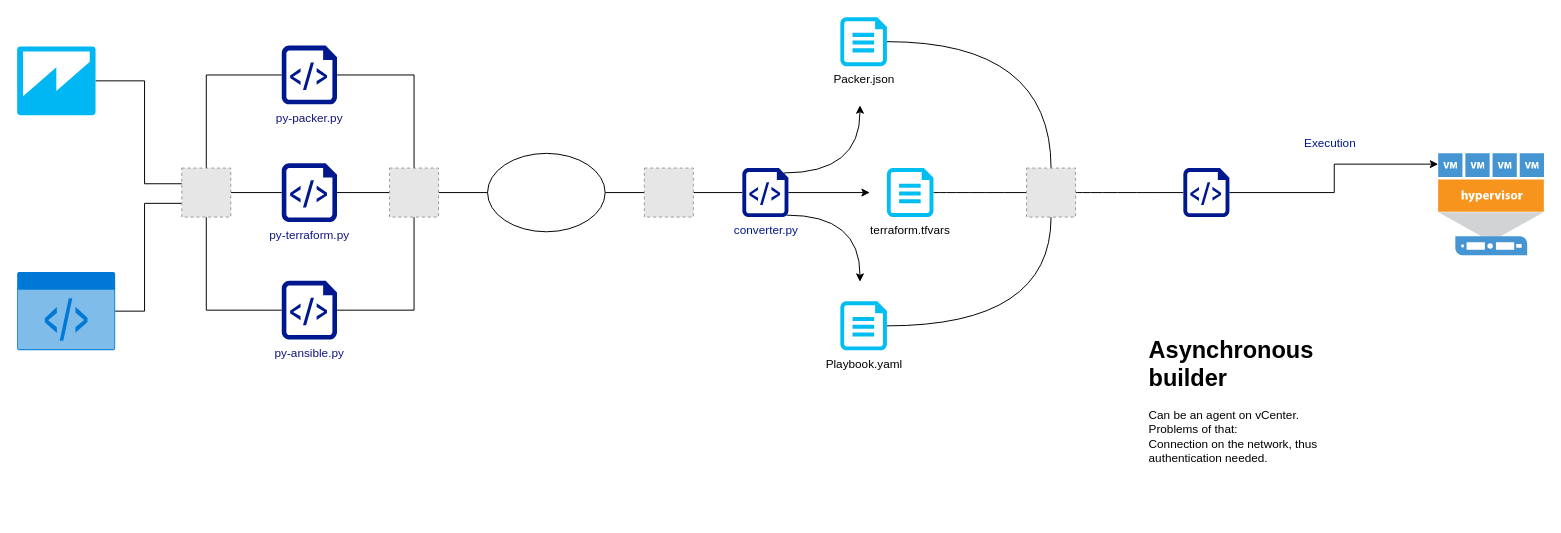
This 1561x533 diagram has some shape labels left out. Grey dashed boxes stand in for pictures. The centre of each missing label's shape, as x and y in pixels:
Asynchronous-builder.py: the point at 1206,192
Command Line: the point at 66,310
Core Engine: the point at 546,192
User Interface: the point at 56,80
